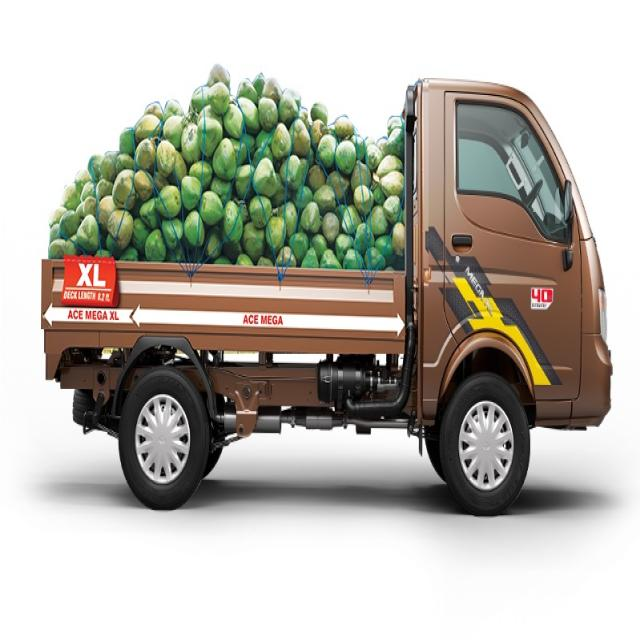truck: (41, 65, 612, 514)
